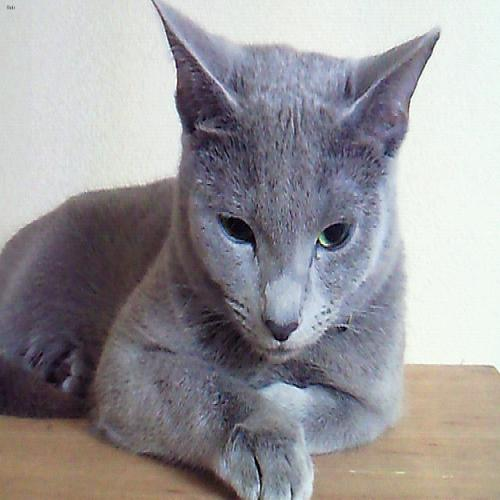rblue: (141, 1, 446, 382)
